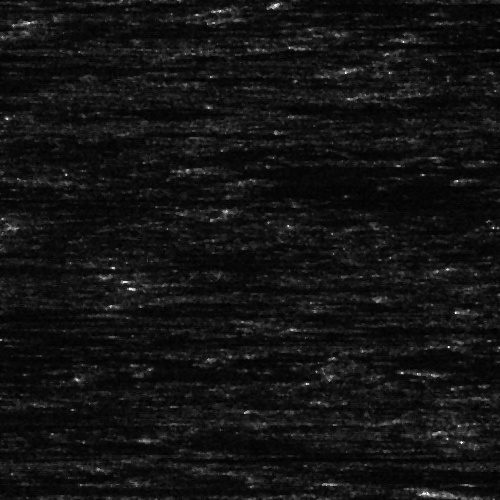object: (87, 449, 202, 462), (261, 323, 396, 334), (412, 484, 495, 499), (0, 26, 108, 37), (428, 258, 500, 271), (206, 0, 289, 9), (124, 298, 197, 307), (179, 164, 262, 171), (86, 311, 159, 318), (472, 349, 500, 362), (129, 281, 192, 286), (113, 435, 176, 440), (389, 368, 452, 373), (0, 4, 34, 13), (449, 283, 500, 288), (453, 339, 474, 344)
shadow: (145, 449, 429, 462), (0, 58, 211, 73), (248, 0, 500, 9), (36, 26, 239, 37), (220, 164, 500, 171), (329, 323, 479, 334), (0, 4, 181, 13), (453, 484, 500, 499), (0, 486, 224, 489), (161, 298, 234, 307), (123, 311, 195, 318), (421, 368, 500, 373), (470, 258, 500, 271), (160, 281, 234, 286), (145, 435, 215, 440), (463, 339, 500, 344), (481, 283, 500, 288), (421, 35, 500, 36)
